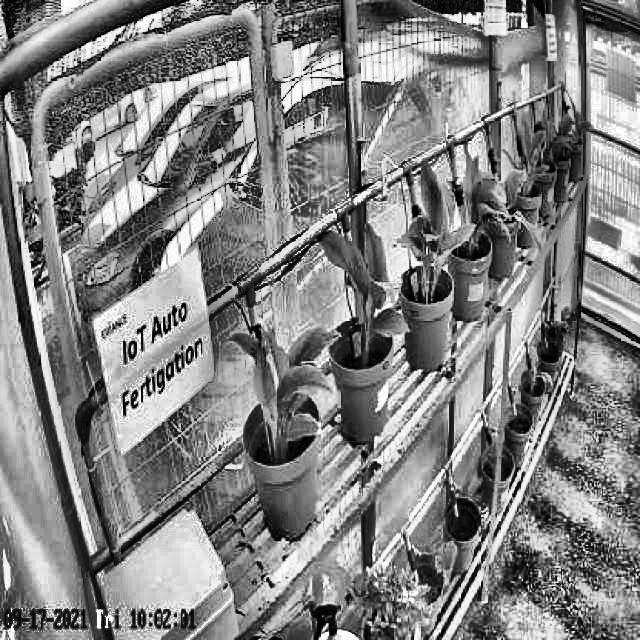plants: (230, 320, 341, 446), (316, 223, 412, 342), (398, 156, 474, 282), (462, 148, 508, 248), (517, 115, 551, 193)
